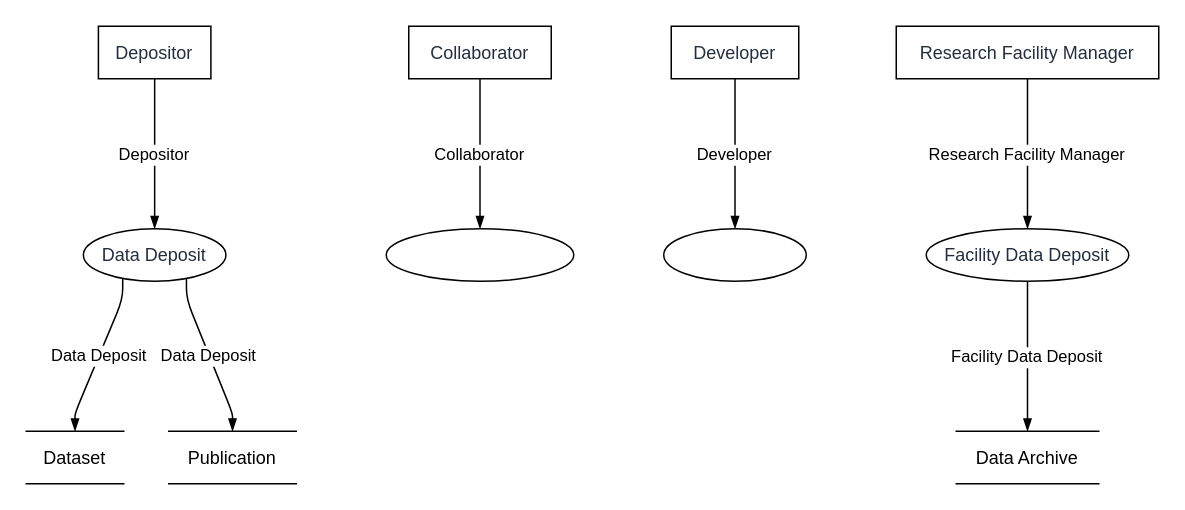
The diagram is 1185 pixels wide and 510 high, and some of its shapes have lost their labels. Here are the shapes that lost their labels. From the top down, the centre of each, then its label:
At (479,254): "Privileged Access".
At (734,254): "API Deposit".
